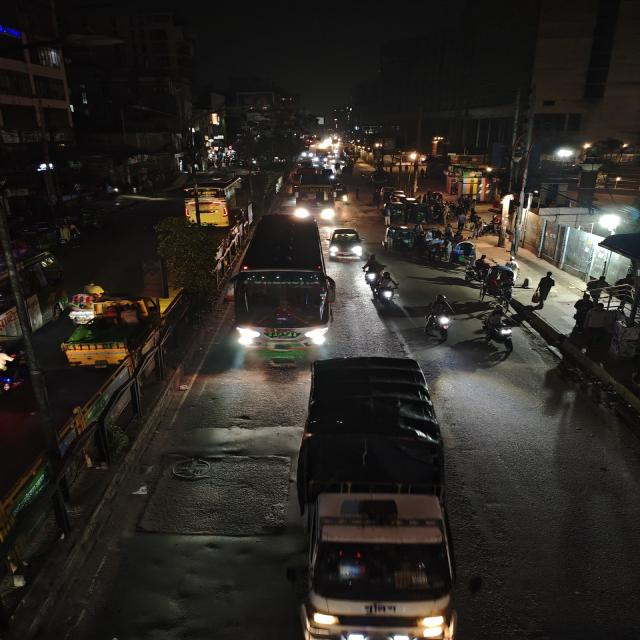bus: (234, 213, 335, 363), (0, 248, 63, 347), (180, 174, 251, 228), (292, 170, 334, 220)
car: (326, 225, 367, 262)
cng: (18, 221, 59, 253), (381, 225, 418, 253), (76, 204, 106, 230)
motorcycle: (477, 306, 519, 354), (0, 344, 30, 402), (424, 292, 457, 342), (368, 267, 402, 308), (362, 254, 386, 286)
pedestrian: (581, 274, 614, 308), (605, 313, 629, 359), (570, 292, 596, 330), (534, 270, 557, 306), (506, 254, 521, 280), (520, 275, 532, 291)
pickup_van: (294, 355, 456, 640), (59, 294, 162, 369)
rickshaw: (63, 281, 110, 325), (448, 240, 476, 264)
